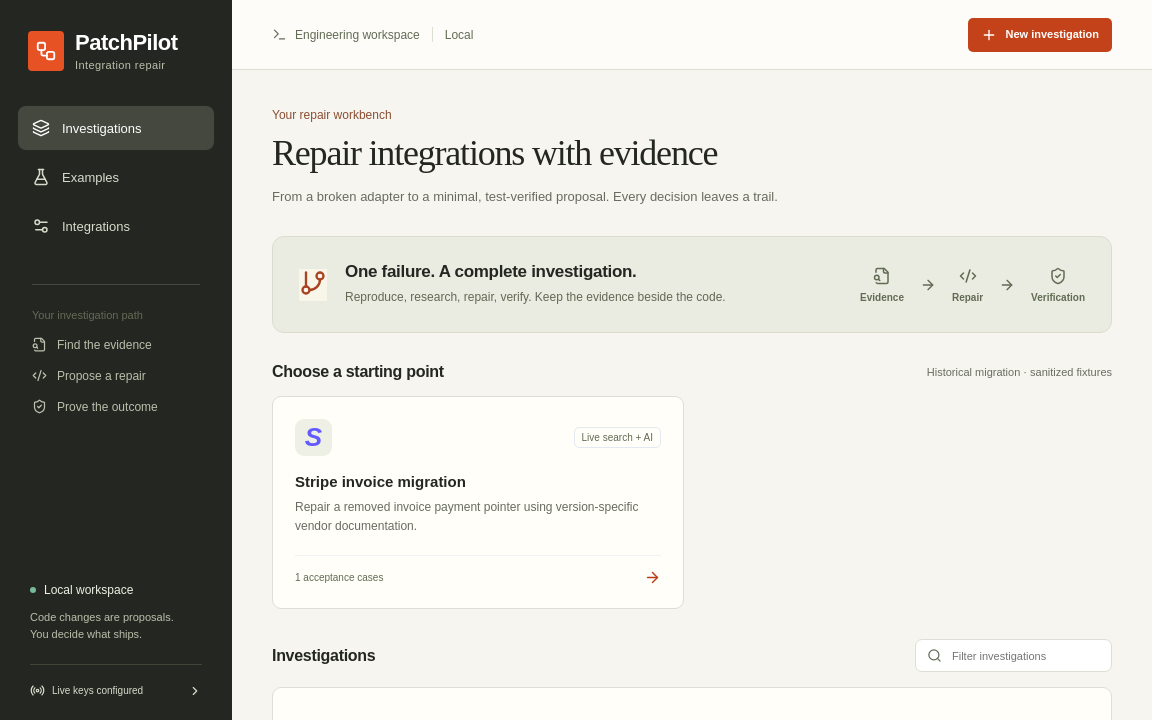
loads example into editable intake and labels live mode
Expected: the heading "Stripe invoice migration" is shown, [295,473,466,490]
Click the button "New investigation": (1040, 34) [968,18,1112,52]
(page scrolled)
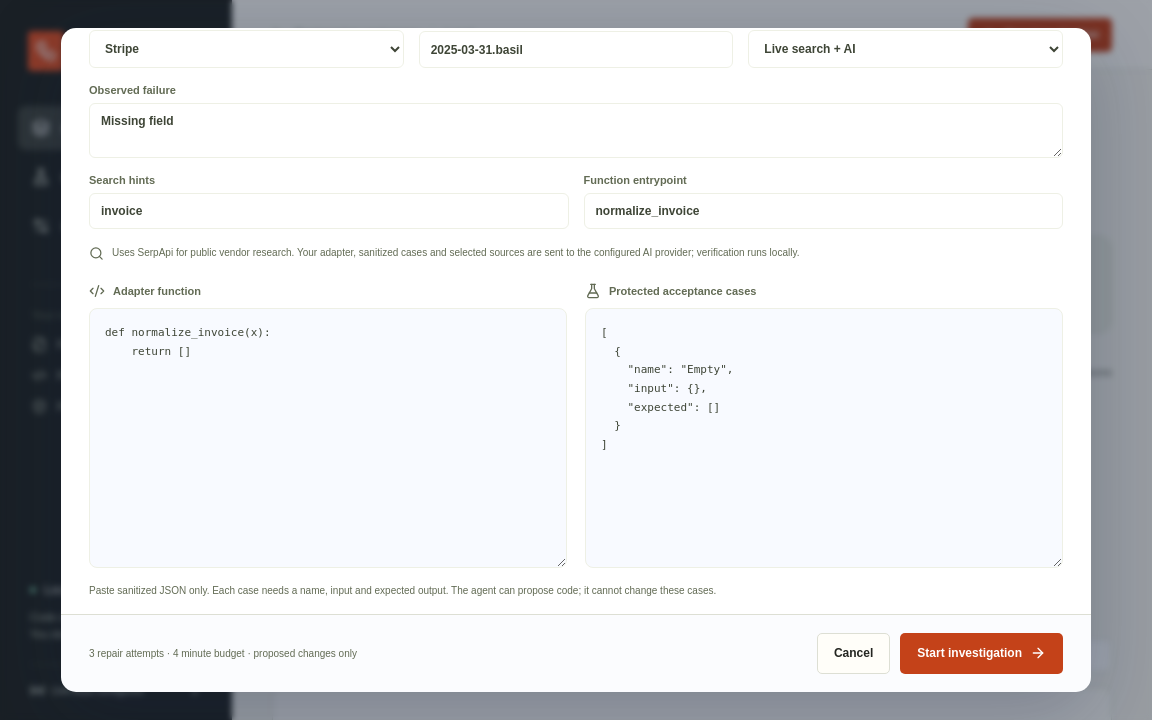
Expected: the dropdown labelled "Execution mode" shows "Live search + AI", [748,30,1063,68]
